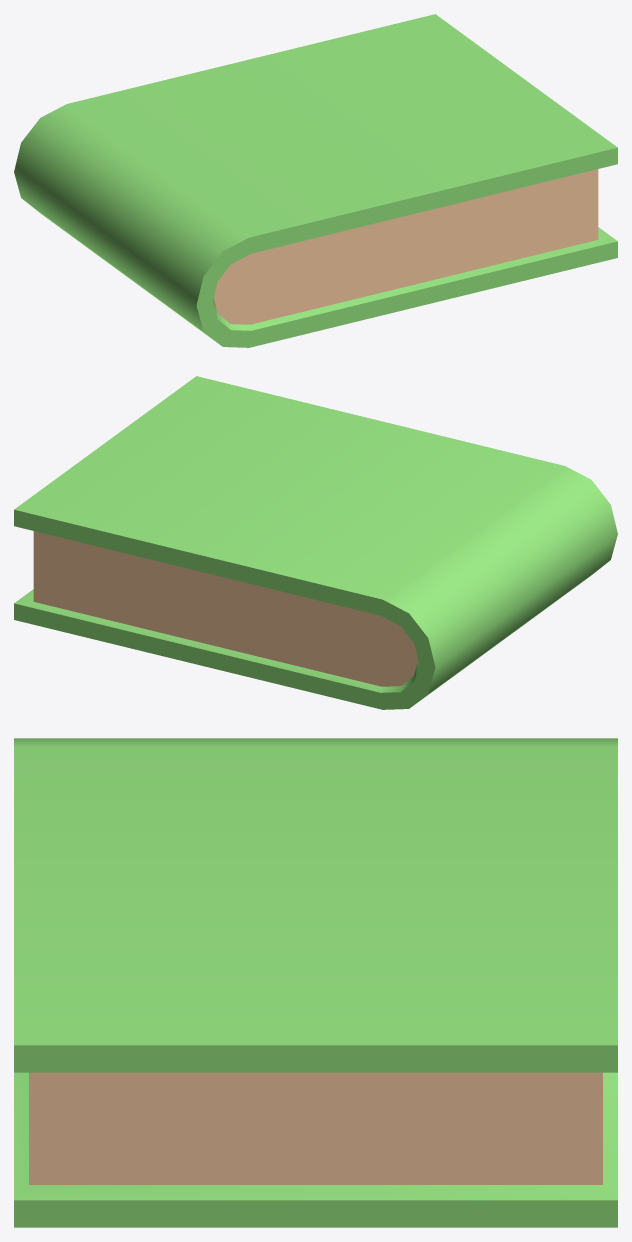
Rendered from BookGreen.fbx.
3 renders of one model, top to bottom at view 1: azimuth 30°, elevation 25°; view 2: azimuth 150°, elevation 25°; view 3: azimuth 270°, elevation 25°, orthographic. The views are drawn at different scales.
Visible parts, largest first — view 1: Book Lime; view 2: Book Lime; view 3: Book Lime.
Boxes of the visible parts, x1,y1,x2,y2 form: Book Lime: (14, 14, 617, 347); Book Lime: (14, 376, 617, 709); Book Lime: (14, 738, 617, 1227).
Bounding box in the file's own units: 200 × 50 × 150.
